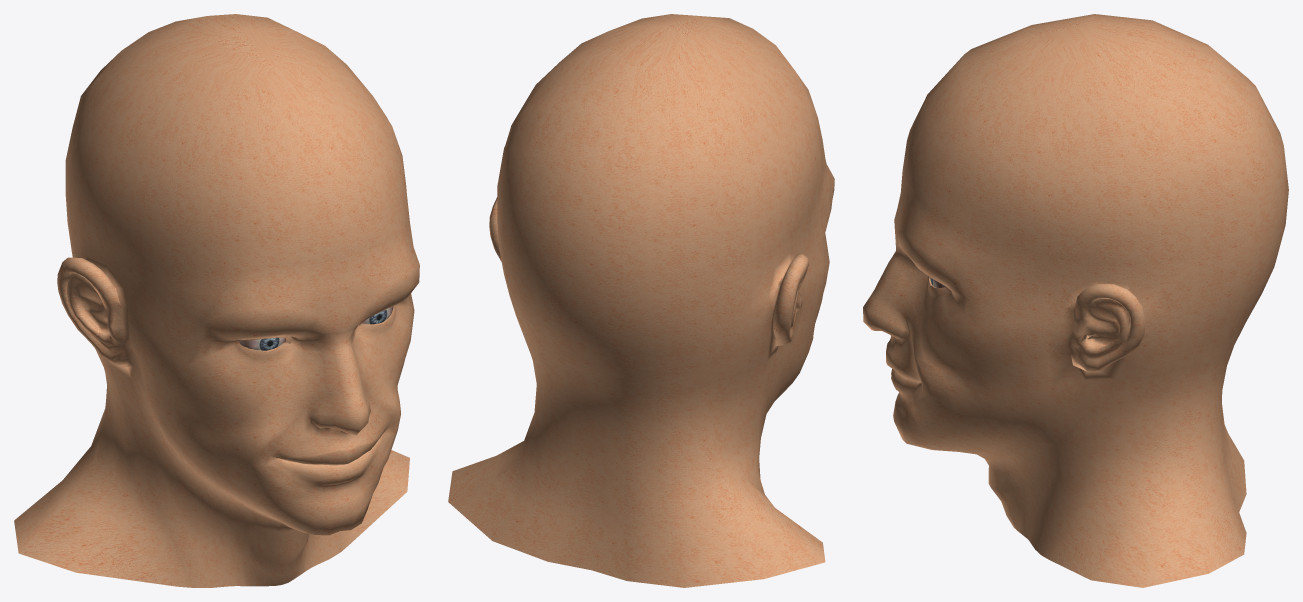
Rendered from smile.FBX.
3 renders of one model, left to right at view 1: azimuth 30°, elevation 25°; view 2: azimuth 150°, elevation 25°; view 3: azimuth 270°, elevation 25°, orthographic. The views are drawn at different scales.
Parts seen in each view (by area): view 1: head; view 2: head; view 3: head.
Part boxes in pixels (box(x1,y1,x2,y2)): head: box(14, 14, 419, 587); head: box(448, 14, 834, 587); head: box(863, 14, 1288, 587).
Size of the model in its own units: 44.22 by 43.6 by 56.51.
Materials: 4 (2 with a texture image).
